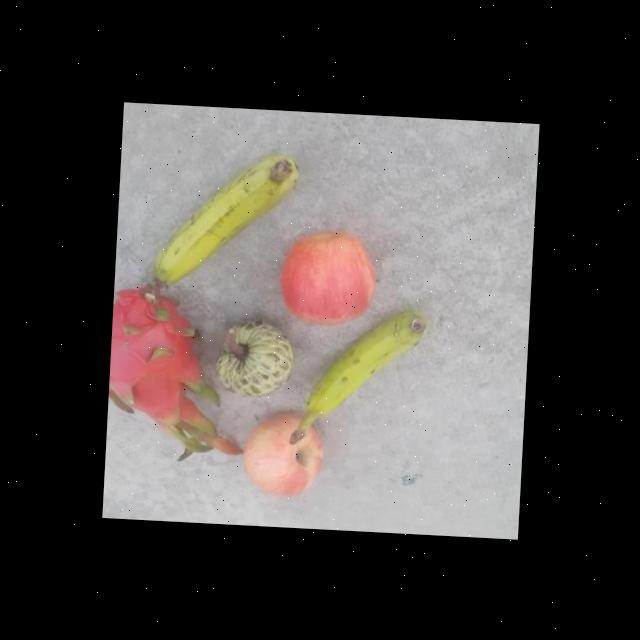Sakya fruit: (210, 312, 294, 399)
apple: (274, 223, 379, 328), (238, 408, 327, 500)
banana: (146, 145, 302, 298), (286, 304, 432, 454)
pitaya: (106, 278, 212, 431)
